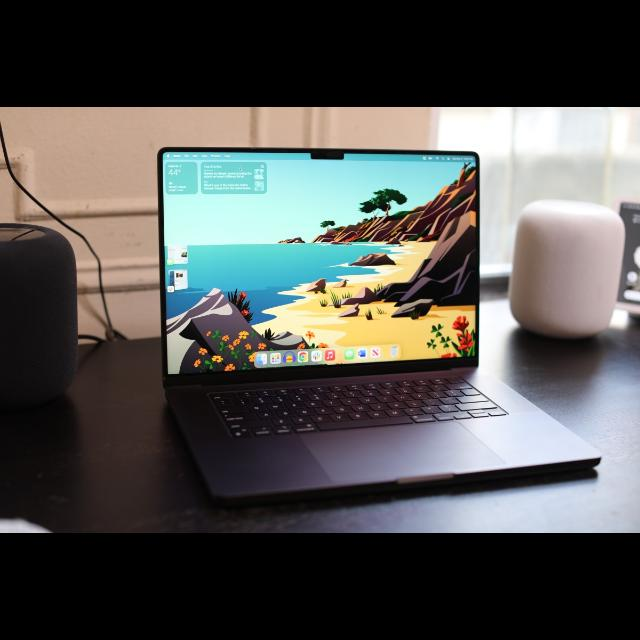laptop: (138, 139, 550, 506)
